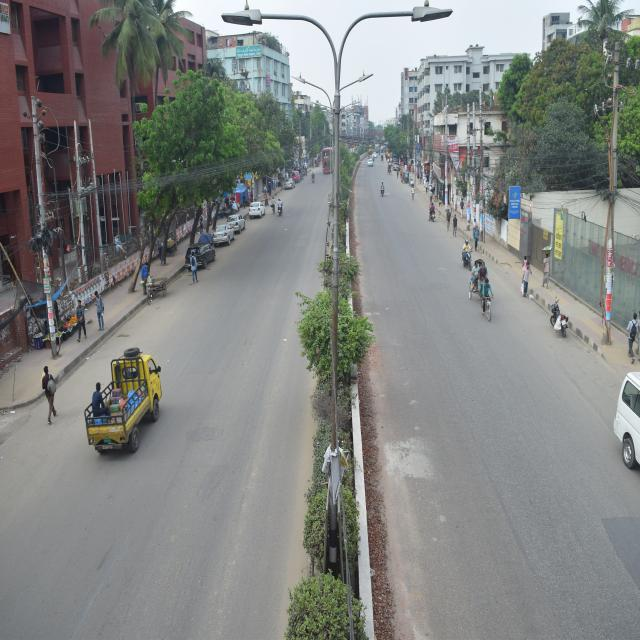bus: (321, 142, 338, 183)
car: (184, 236, 220, 280), (245, 196, 269, 223), (222, 212, 252, 232), (210, 225, 236, 248)
microbus: (614, 368, 640, 473)
motorbike: (542, 288, 572, 337), (460, 240, 474, 272), (426, 200, 442, 227), (274, 195, 288, 222), (377, 180, 389, 197), (308, 169, 318, 185)
pickup-van: (76, 346, 168, 455)
